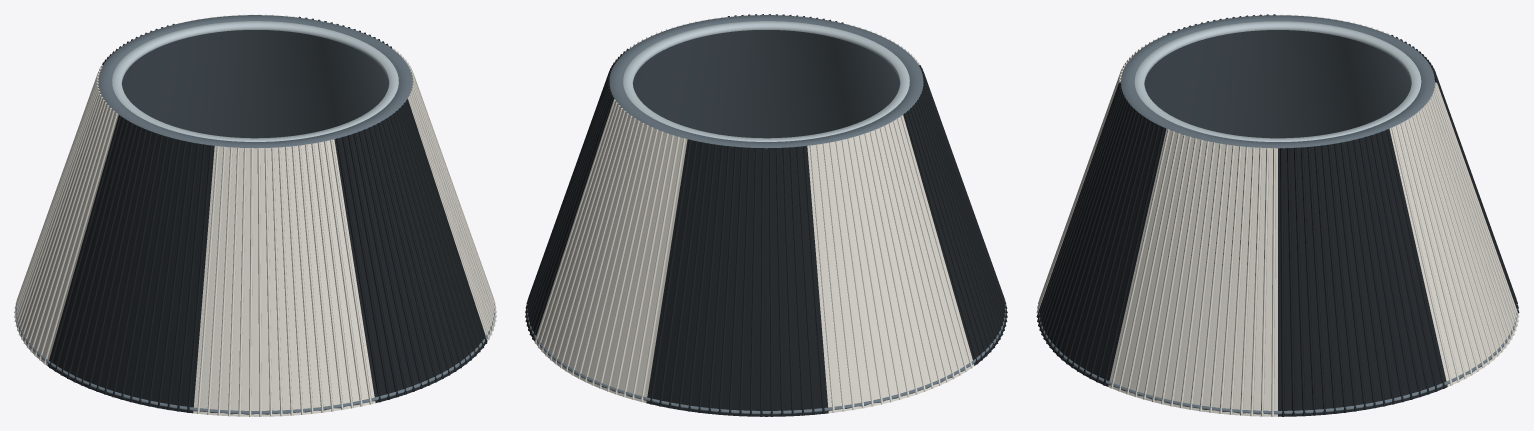
File: interstage_2_3.glb
3 views of the same model, side by side, from view 1: azimuth 30°, elevation 25°; view 2: azimuth 150°, elevation 25°; view 3: azimuth 270°, elevation 25° (orthographic).
Parts seen in each view (by area): view 1: interstage_2_3.mesh; view 2: interstage_2_3.mesh; view 3: interstage_2_3.mesh.
Boxes of the visible parts, x1,y1,x2,y2 form: interstage_2_3.mesh: (14,14,496,416); interstage_2_3.mesh: (525,14,1007,416); interstage_2_3.mesh: (1036,14,1519,416).
Size of the model in its own units: 10.12 by 5.42 by 10.12.
